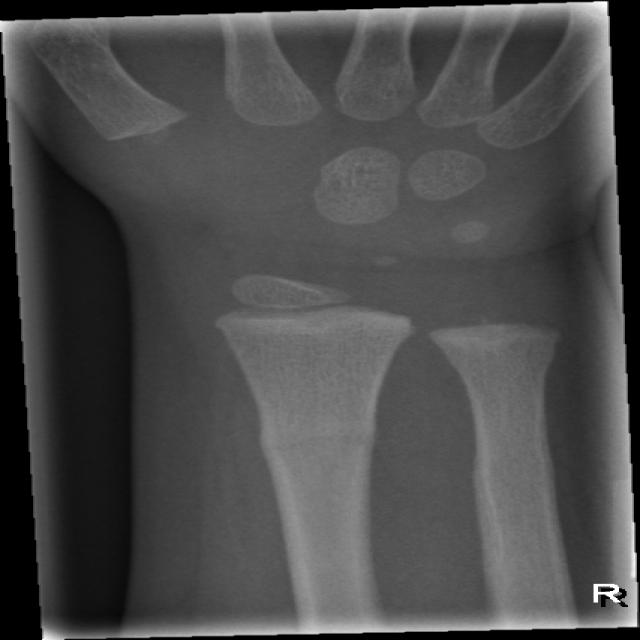radius fracture: (202, 359, 409, 566)
